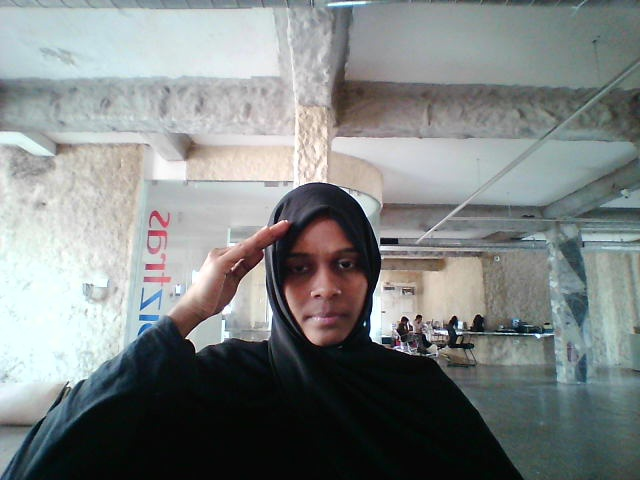HELLO: (177, 207, 293, 339)
